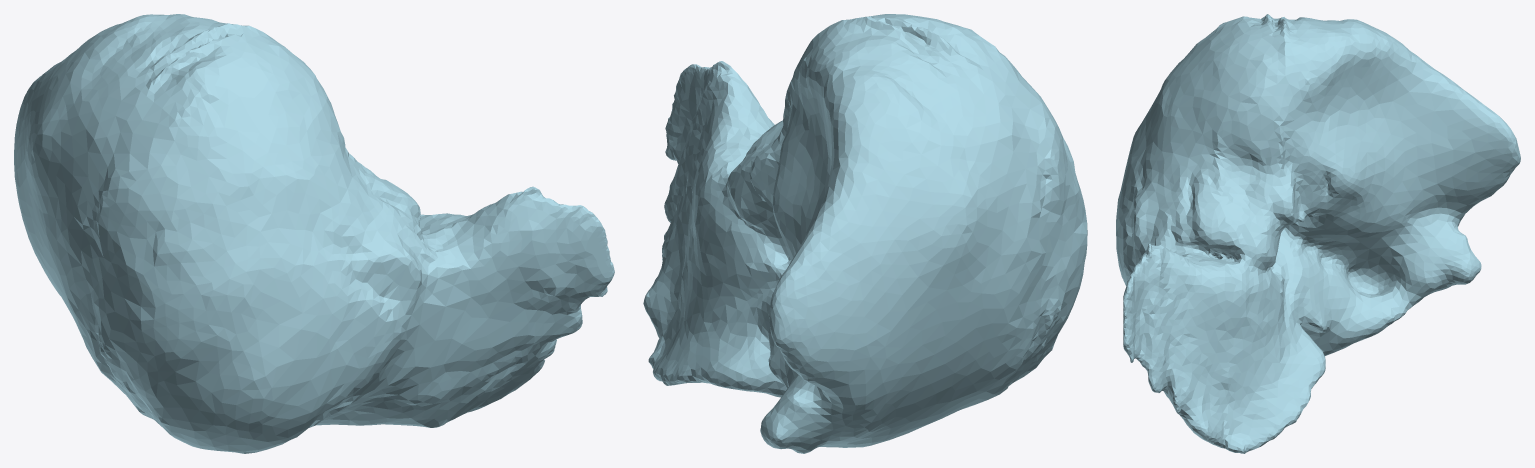
File: liver.obj
3 views of the same model, side by side, from view 1: azimuth 30°, elevation 25°; view 2: azimuth 150°, elevation 25°; view 3: azimuth 270°, elevation 25° (orthographic). The views are drawn at different scales.
Parts seen in each view (by area): view 1: grp1; view 2: grp1; view 3: grp1.
Boxes of the visible parts, x1,y1,x2,y2 form: grp1: (14,14,614,453); grp1: (643,14,1087,453); grp1: (1116,14,1520,453).
Size of the model in its own units: 190 by 167 by 182.
